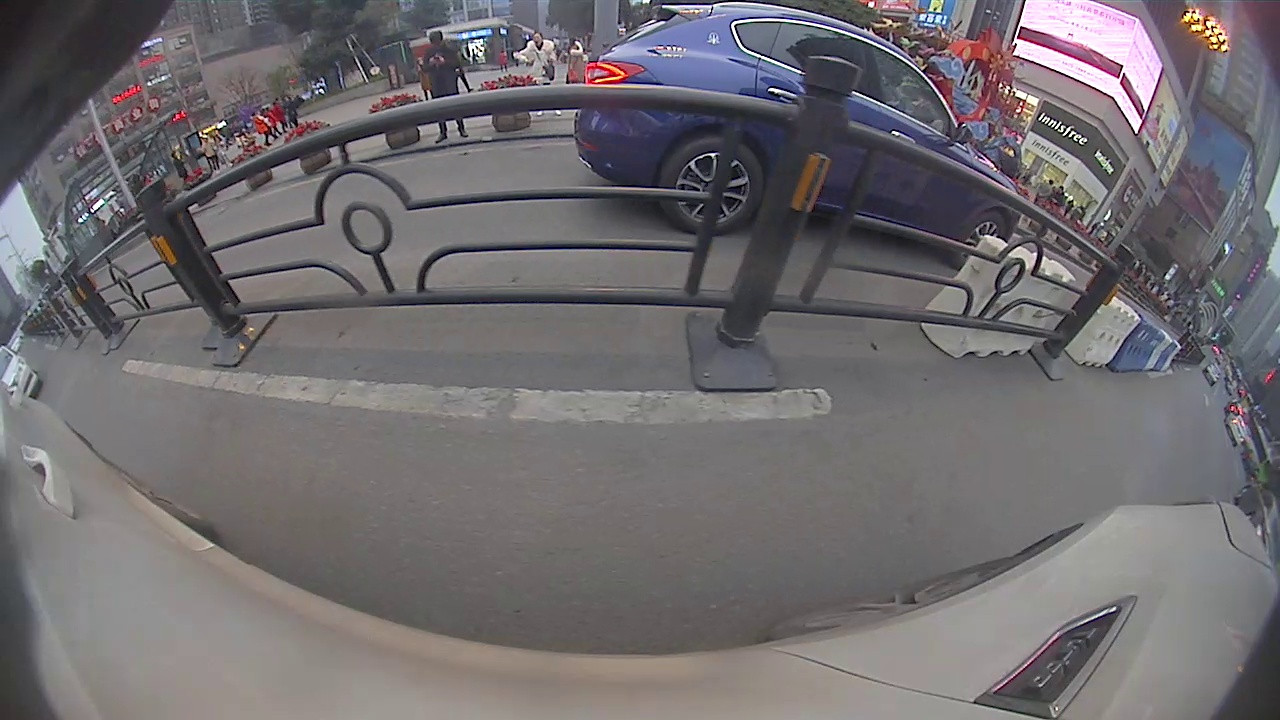car: (574, 6, 1020, 269)
front: (957, 212, 1010, 267)
person: (420, 33, 467, 144)
rear: (664, 133, 763, 233)
